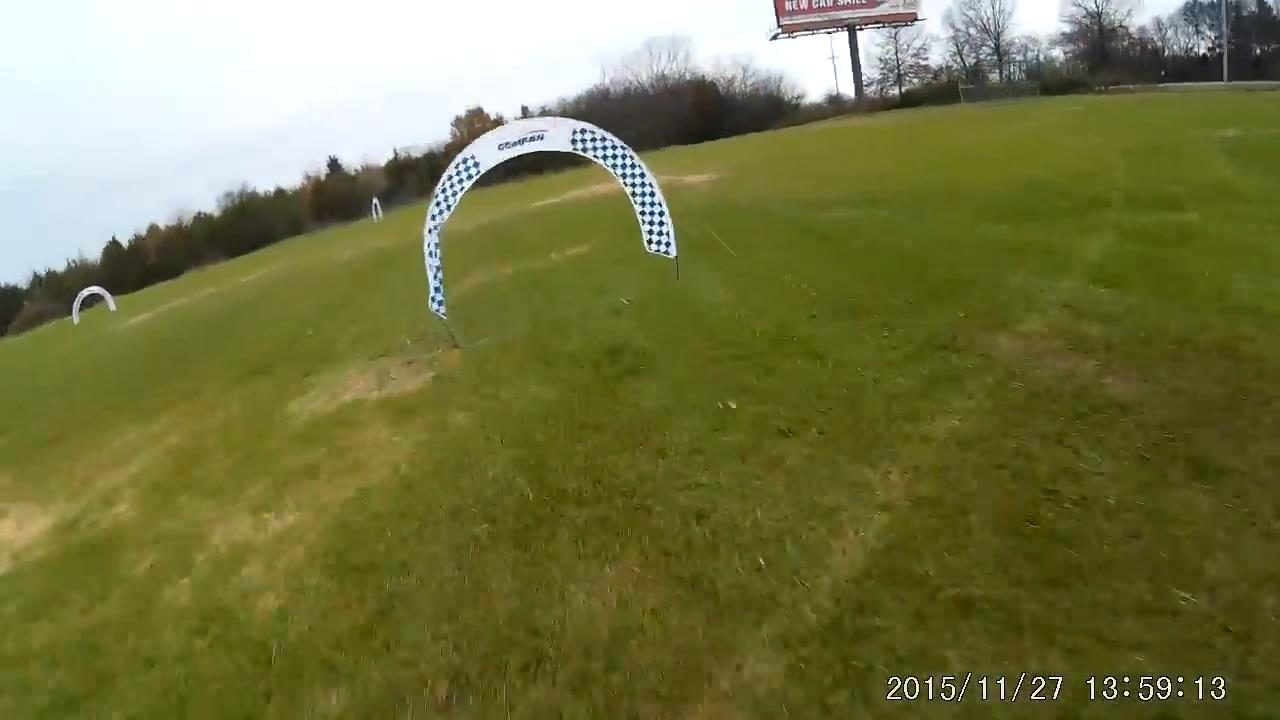gate: (417, 113, 683, 318)
